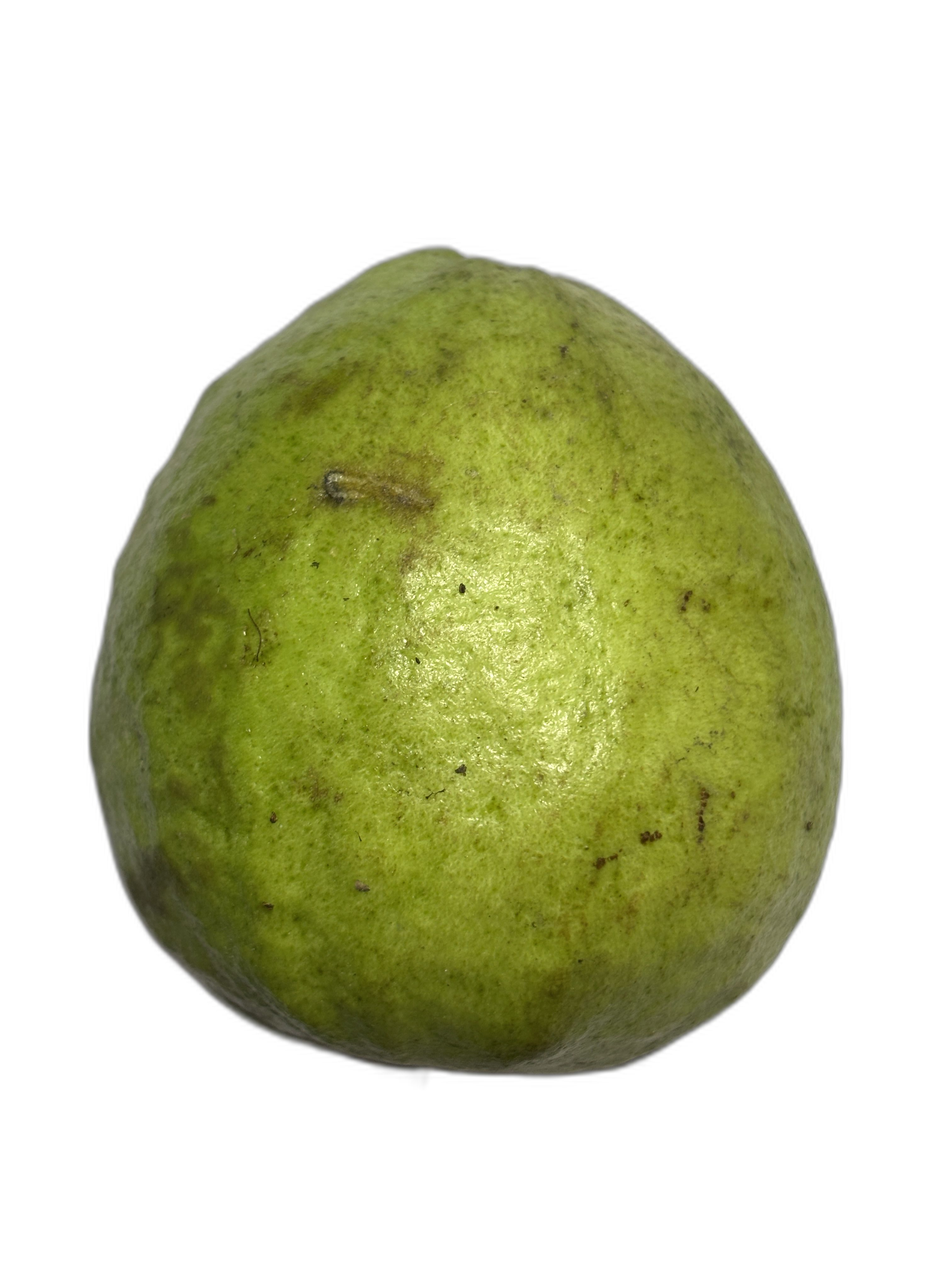guava: (156, 252, 925, 1114)
